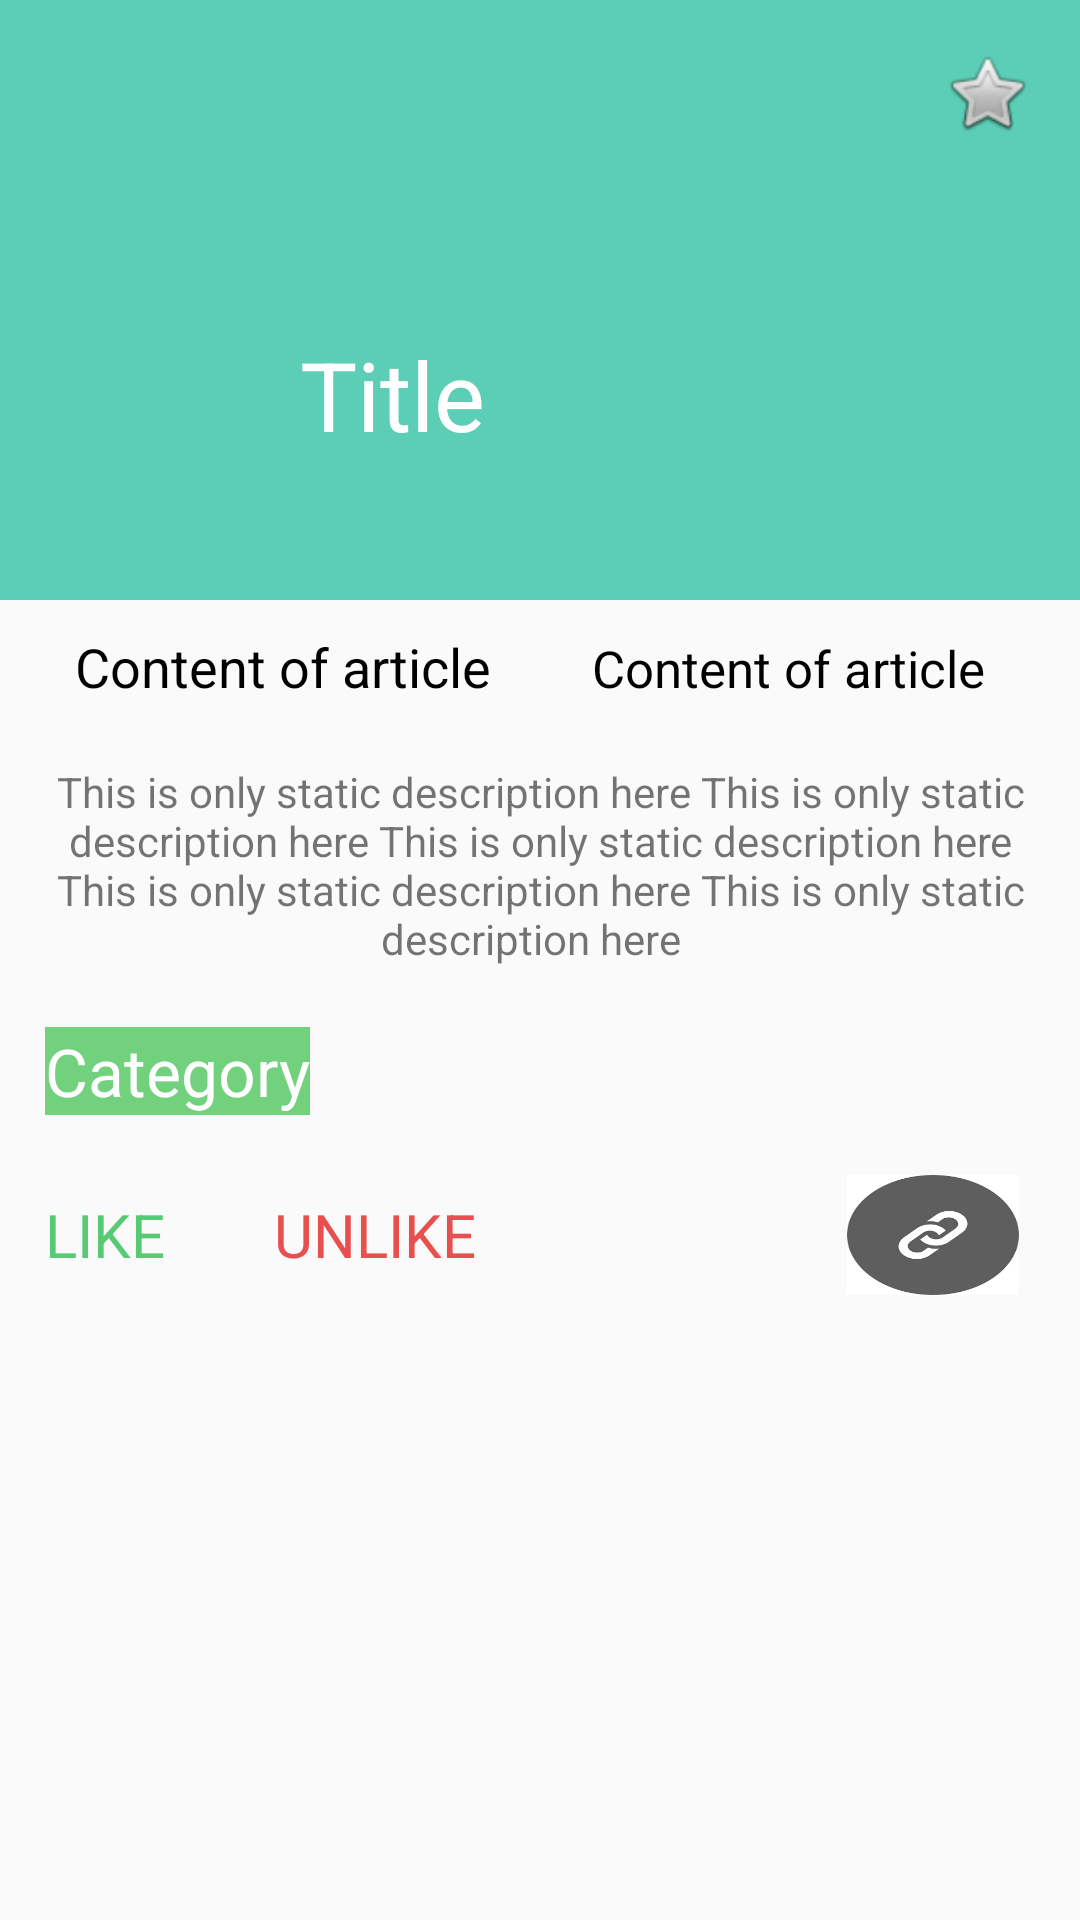

Locate icon controls on the screen. Image size 1080 x 1920, boxes as (x1, y1, x2, y2).
share: (847, 1175, 1019, 1295)
